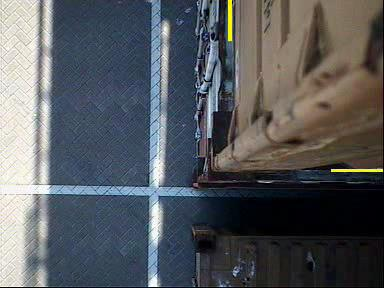groundmarker_2: (125, 6, 203, 36), (129, 181, 207, 211)
